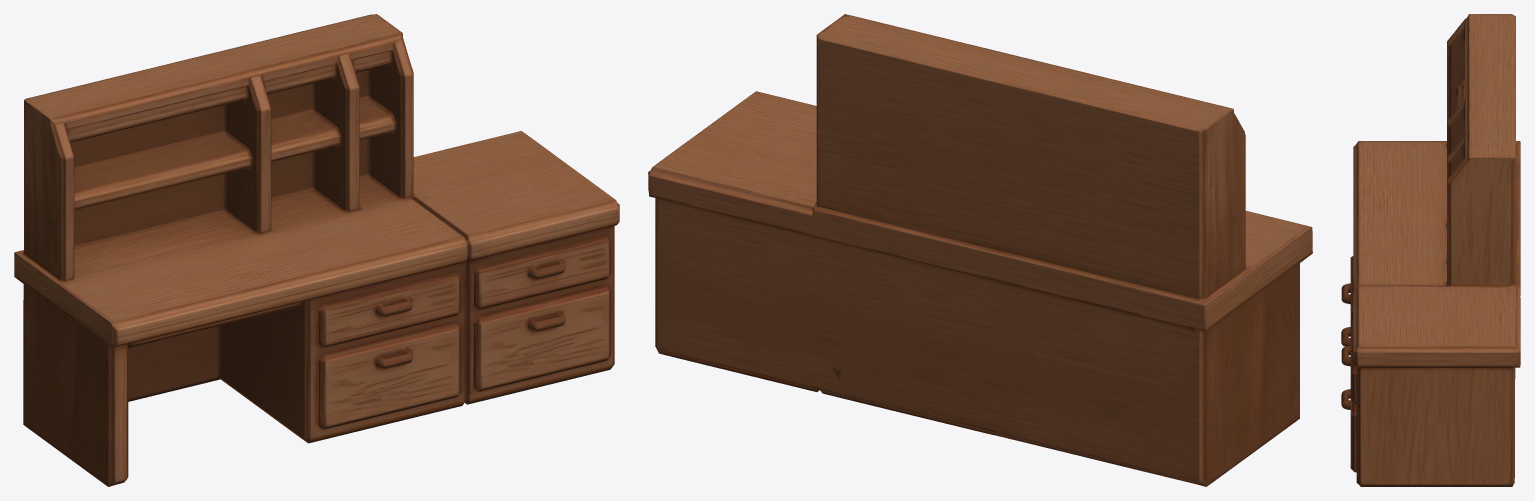
The model's file is table.glb.
3 renders of one model, left to right at view 1: azimuth 30°, elevation 25°; view 2: azimuth 150°, elevation 25°; view 3: azimuth 270°, elevation 25°, orthographic. The views are drawn at different scales.
Visible parts, largest first — view 1: material; view 2: material; view 3: material.
Boxes of the visible parts, x1,y1,x2,y2 form: material: (14, 14, 619, 486); material: (648, 14, 1312, 486); material: (1341, 14, 1520, 486).
Size of the model in its own units: 0.9985 by 0.609 by 0.3646.
Materials: 1 (1 with a texture image).
